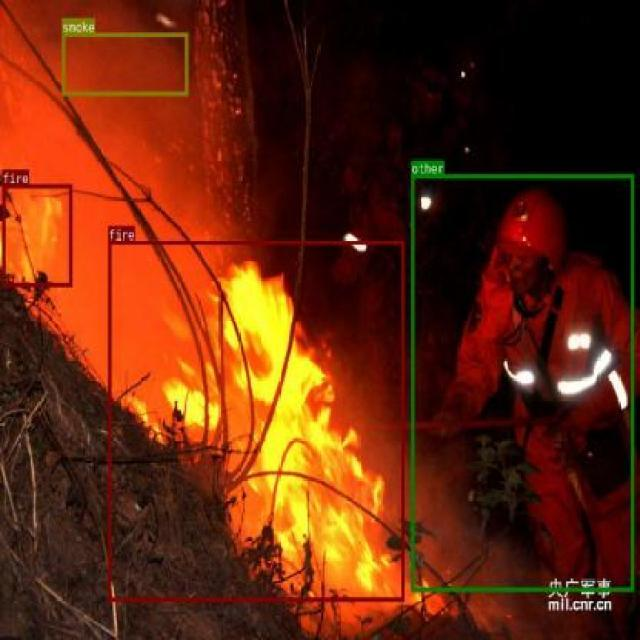Fire: (108, 239, 404, 601), (2, 185, 72, 286)
Smoke: (61, 32, 188, 94)
